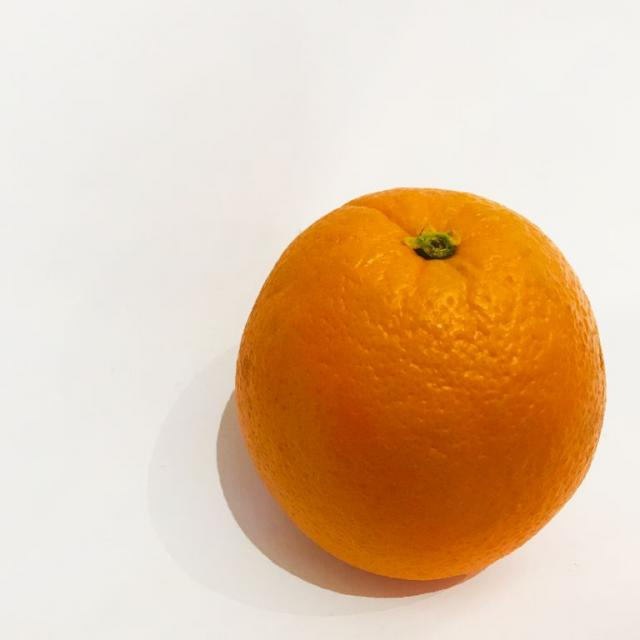Orange: (230, 188, 612, 583)
